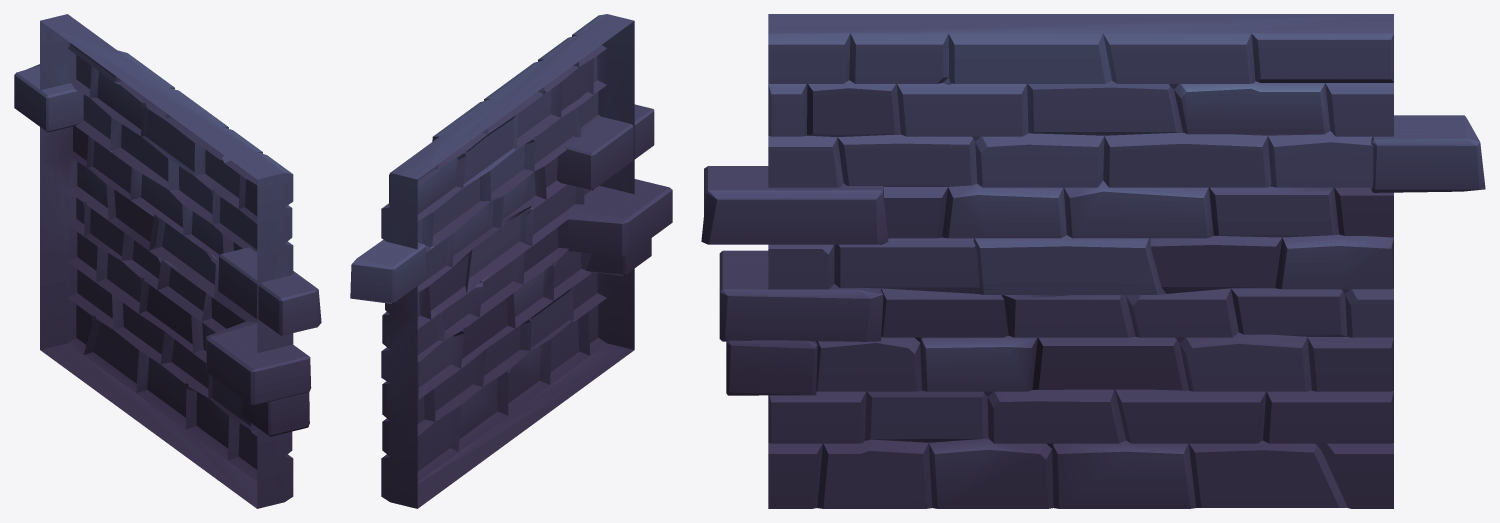
Rendered from WallTileable.fbx.
3 views of the same model, side by side, from view 1: azimuth 30°, elevation 25°; view 2: azimuth 150°, elevation 25°; view 3: azimuth 270°, elevation 25° (orthographic). The views are drawn at different scales.
Parts seen in each view (by area): view 1: pCube361; view 2: pCube361; view 3: pCube361.
Part boxes in pixels (box(x1,y1,x2,y2)): pCube361: box(14, 14, 321, 508); pCube361: box(350, 14, 672, 508); pCube361: box(701, 14, 1485, 508).
Size of the model in its own units: 0.956 by 4.56 by 6.83.
